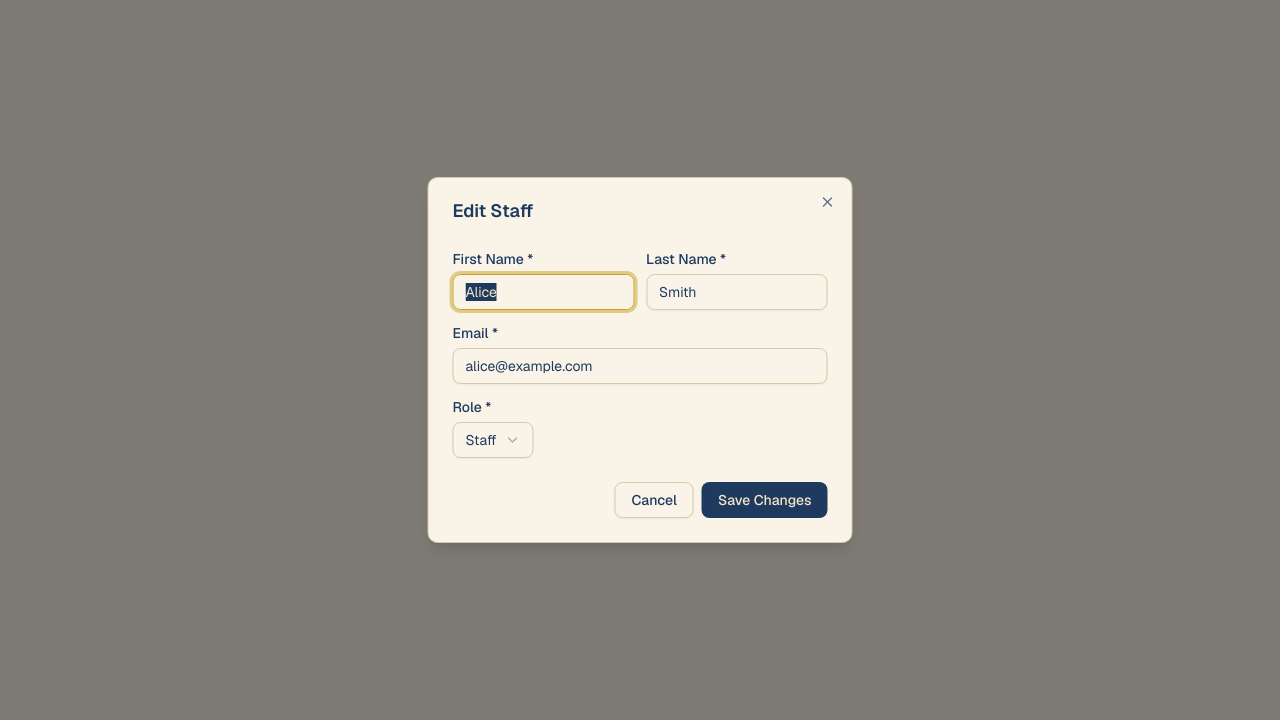
Test: StaffDialog access-reset warning › F1: uses the saved first name, not the name being typed
The image size is (1280, 720).
Replace the text in the field labelled "First Name *" with "Zed" at (543, 292), box [452,274,634,310]
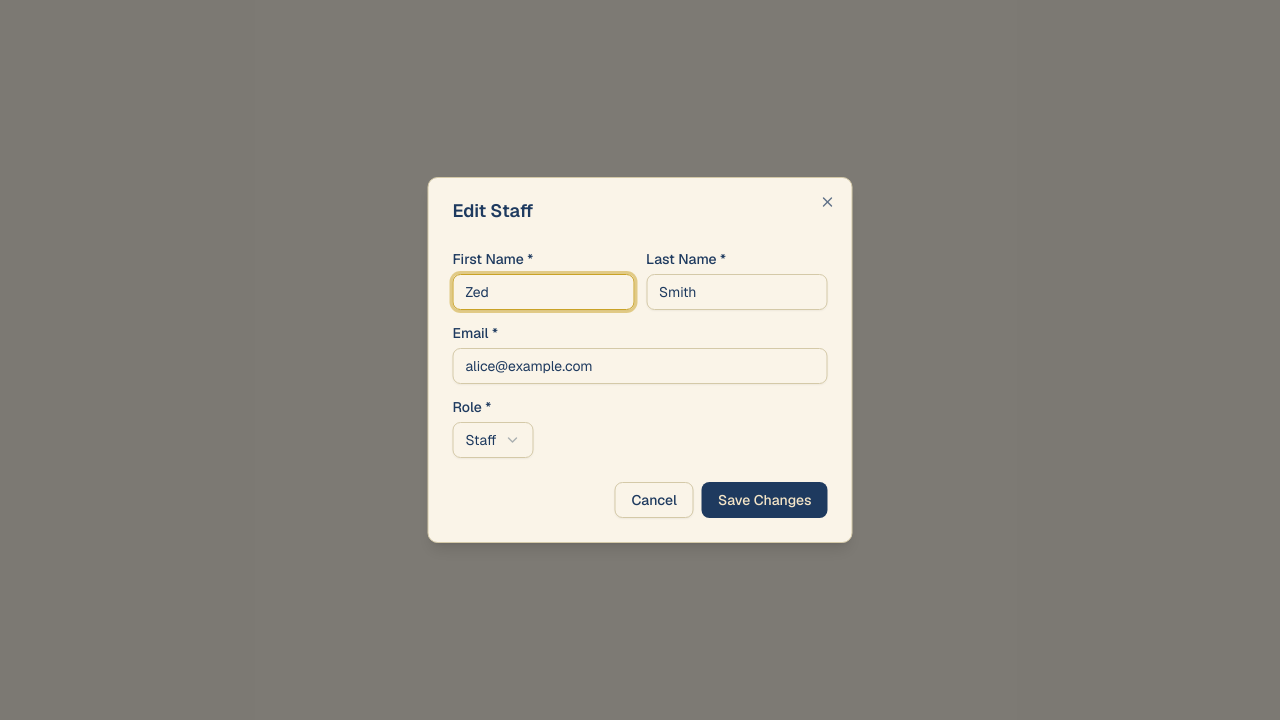
Replace the text in the field labelled "Email *" with "right.person@example.com" at (640, 366), box [452,348,828,384]
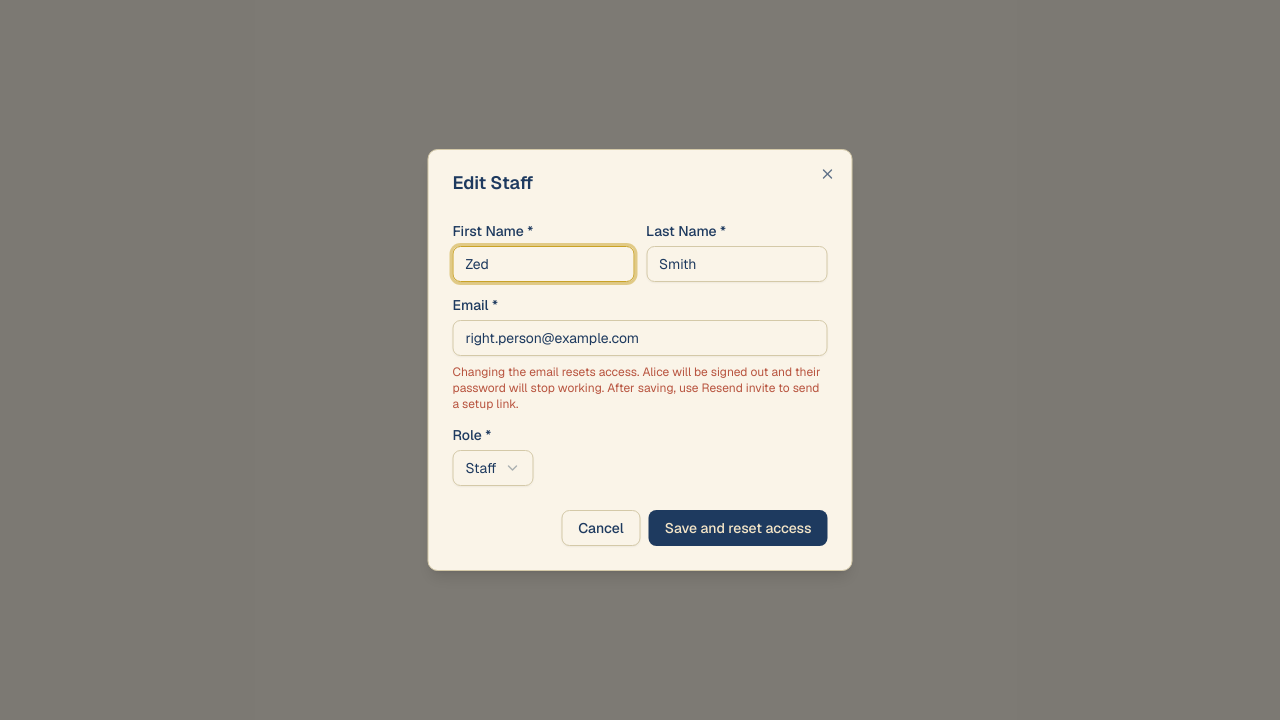
Expected: the message shows "Changing the email resets access. Alice will be signed out and their password will stop working. After saving, use Resend invite to send a setup link.", [452,364,820,412]
